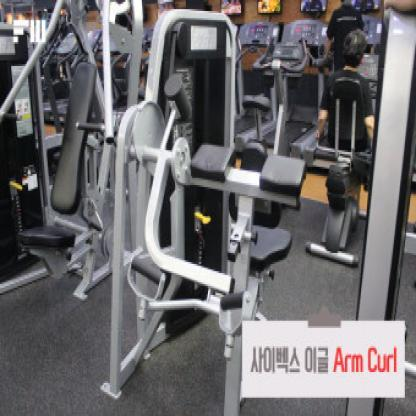arm curl machine: (108, 76, 307, 345)
